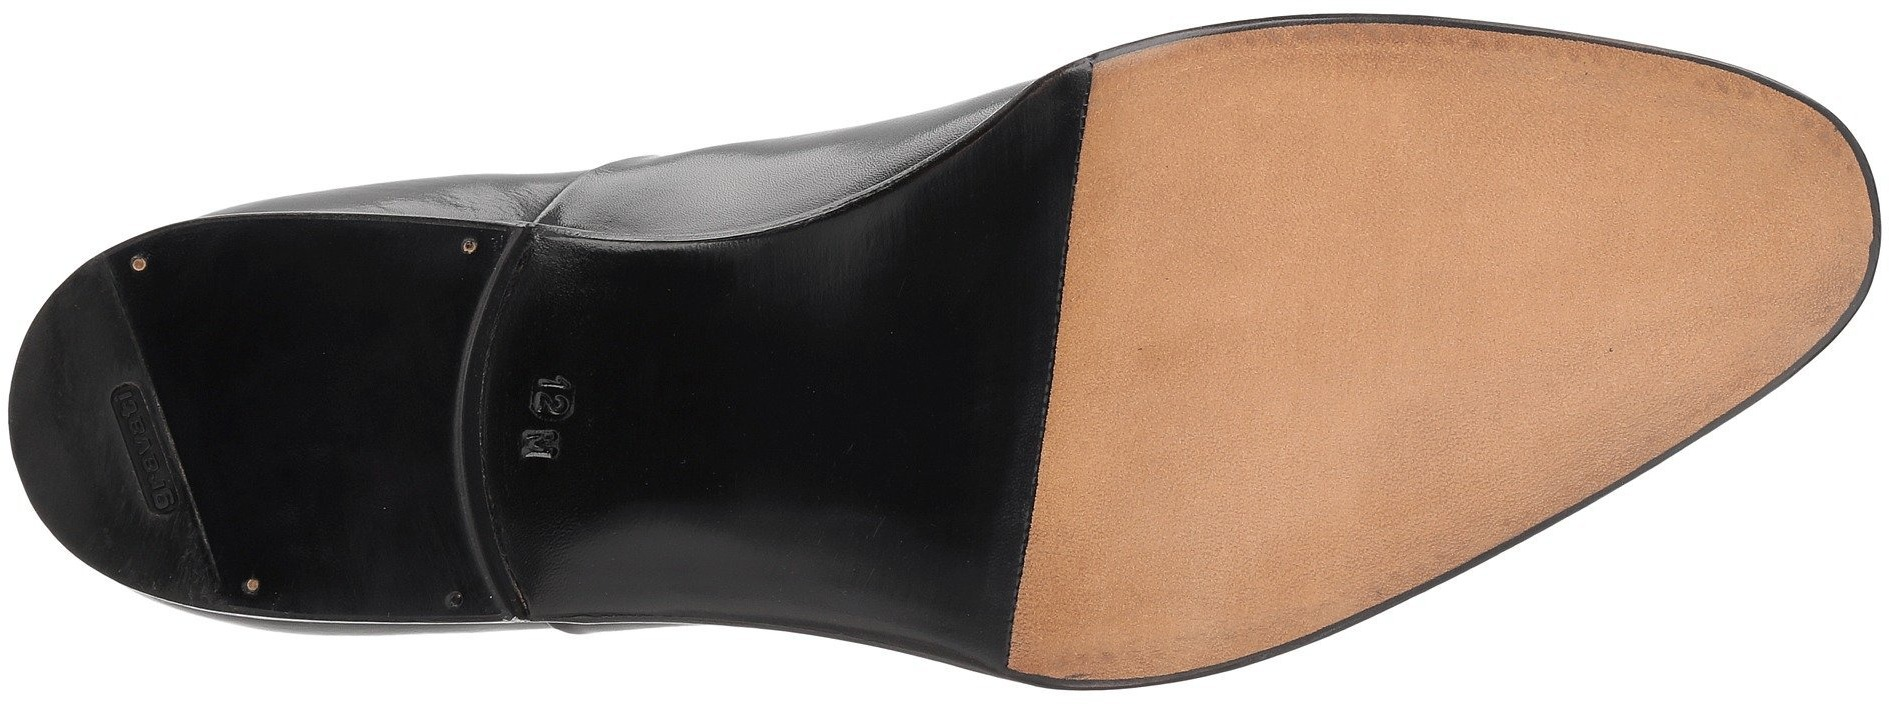other: (1102, 67, 1397, 359), (1410, 74, 1664, 362), (1069, 364, 1324, 628), (608, 265, 866, 515), (204, 255, 432, 492), (1328, 364, 1511, 544), (1669, 149, 1844, 327), (873, 207, 1044, 389), (1517, 368, 1626, 474)
text: (505, 362, 604, 468), (99, 384, 155, 440), (130, 460, 186, 509)
